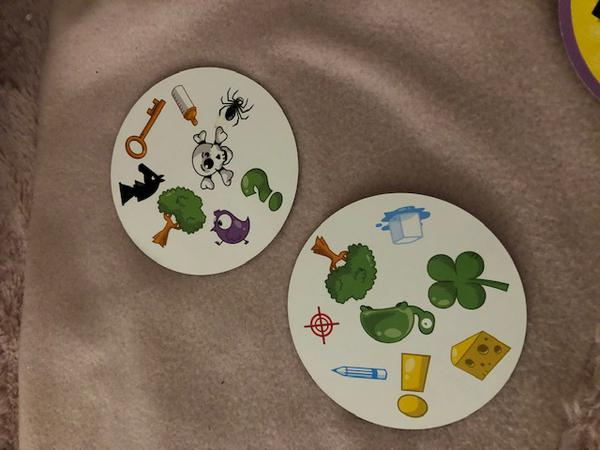araignee: (214, 85, 255, 129)
arbre: (309, 235, 378, 306), (149, 183, 207, 254)
biberon: (170, 85, 202, 129)
cheval: (117, 161, 162, 213)
cible: (302, 306, 340, 346)
cle: (121, 97, 170, 164)
crayon: (326, 358, 389, 385)
fromage: (448, 329, 513, 383)
glacon: (372, 199, 432, 248)
oiseau: (205, 205, 253, 251)
point_exclamation: (394, 351, 433, 418)
point_interrogation: (238, 165, 287, 215)
tete_mort: (186, 124, 239, 194)
tortue: (355, 300, 441, 348)
trefle: (424, 250, 511, 311)
